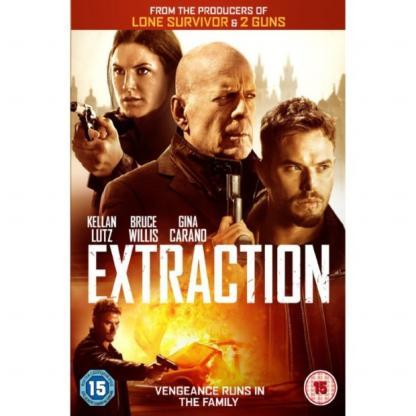Pistol: (223, 168, 255, 272), (62, 98, 112, 148), (148, 348, 182, 378)
